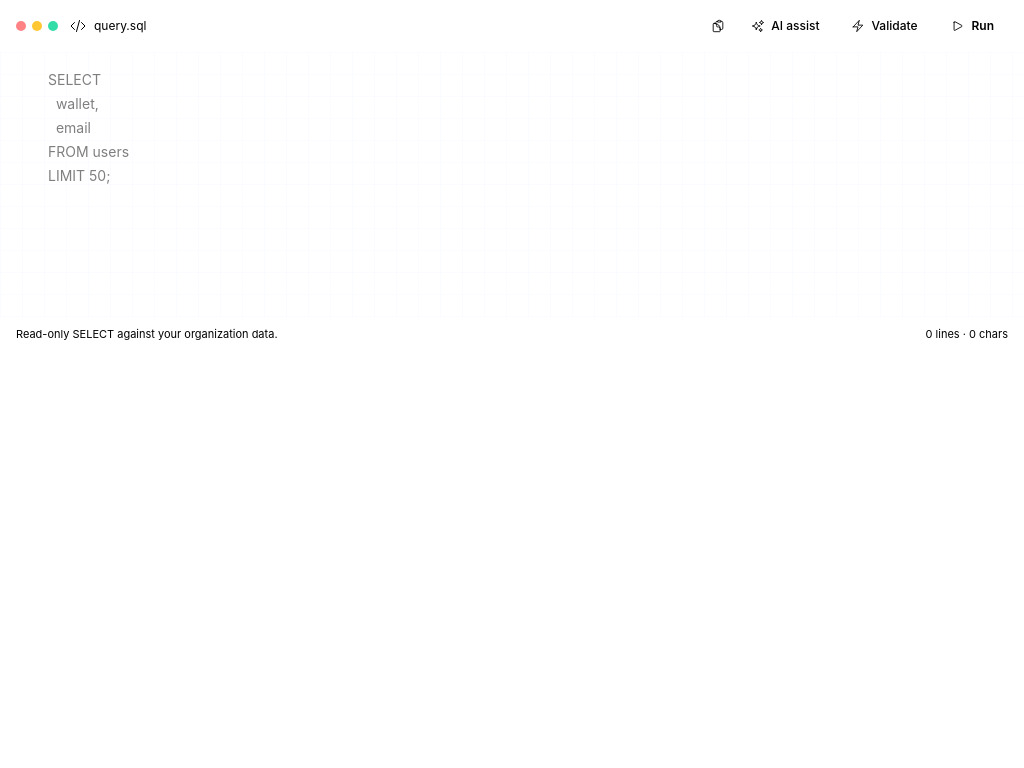
QueryTab › generates SQL from a prompt and applies it to the editor
The image size is (1024, 768).
Click the button with aria-label "AI SQL assistant" at (785, 26), box top-left (739, 12), bottom-right (832, 40)
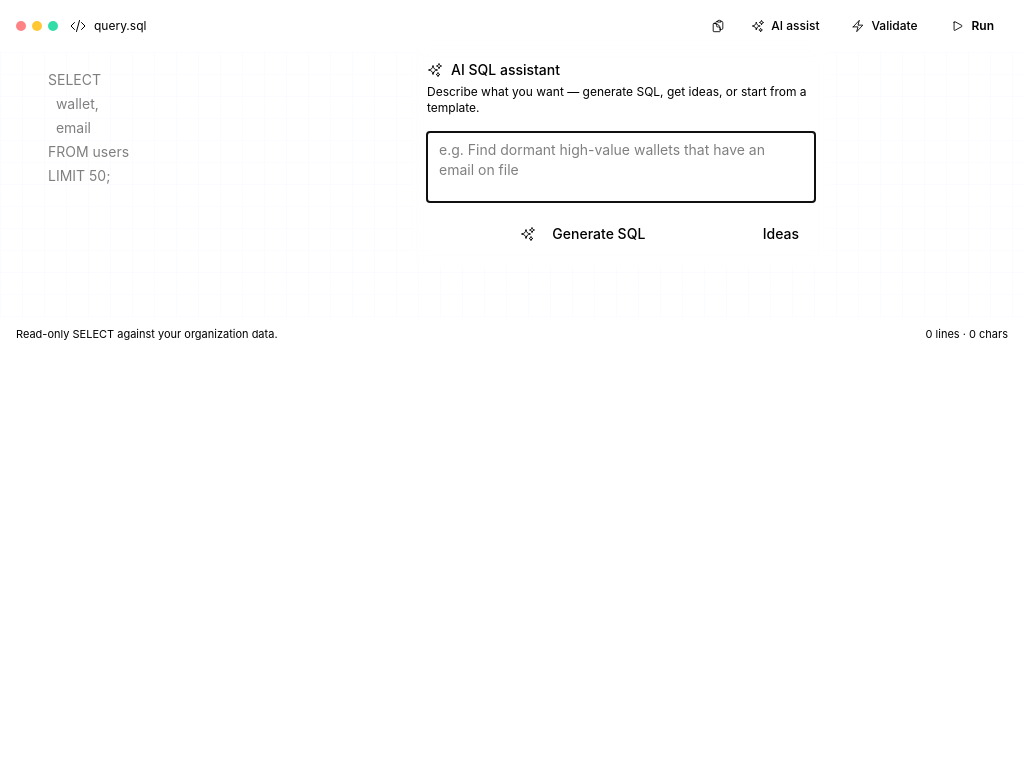
Replace the text in the text box with placeholder "Find dormant high-value wallets" with "Find high-value inactive users" at (621, 167), box top-left (427, 132), bottom-right (815, 202)
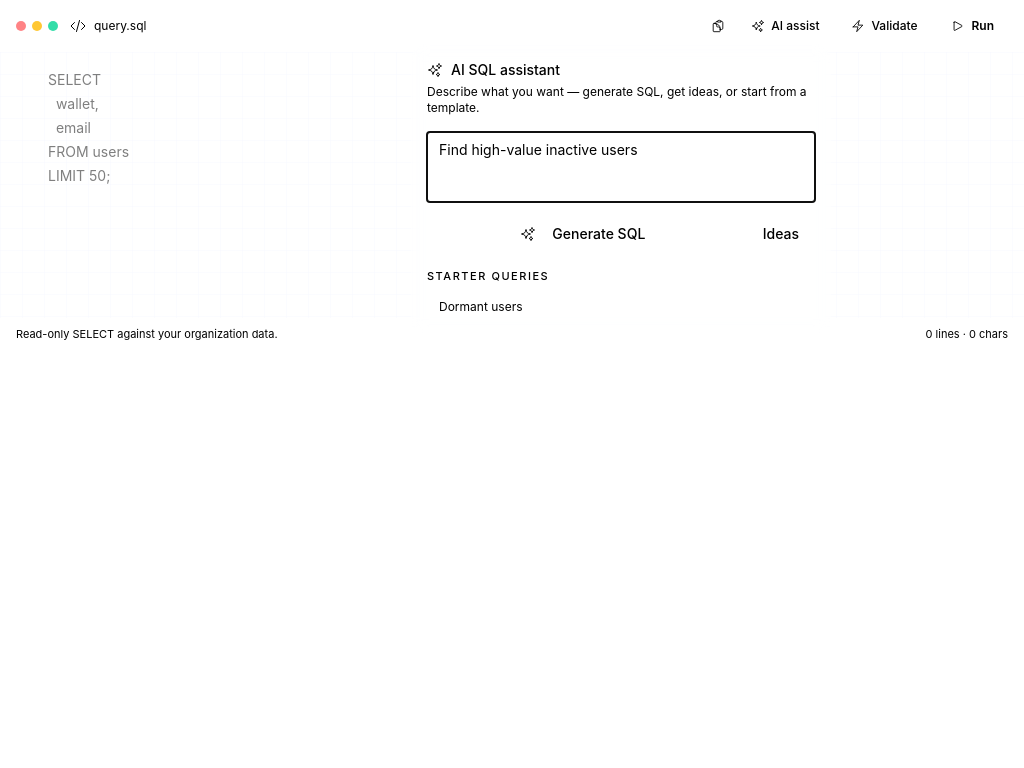
Click the button "Generate SQL" at (583, 234), box top-left (427, 216), bottom-right (739, 252)
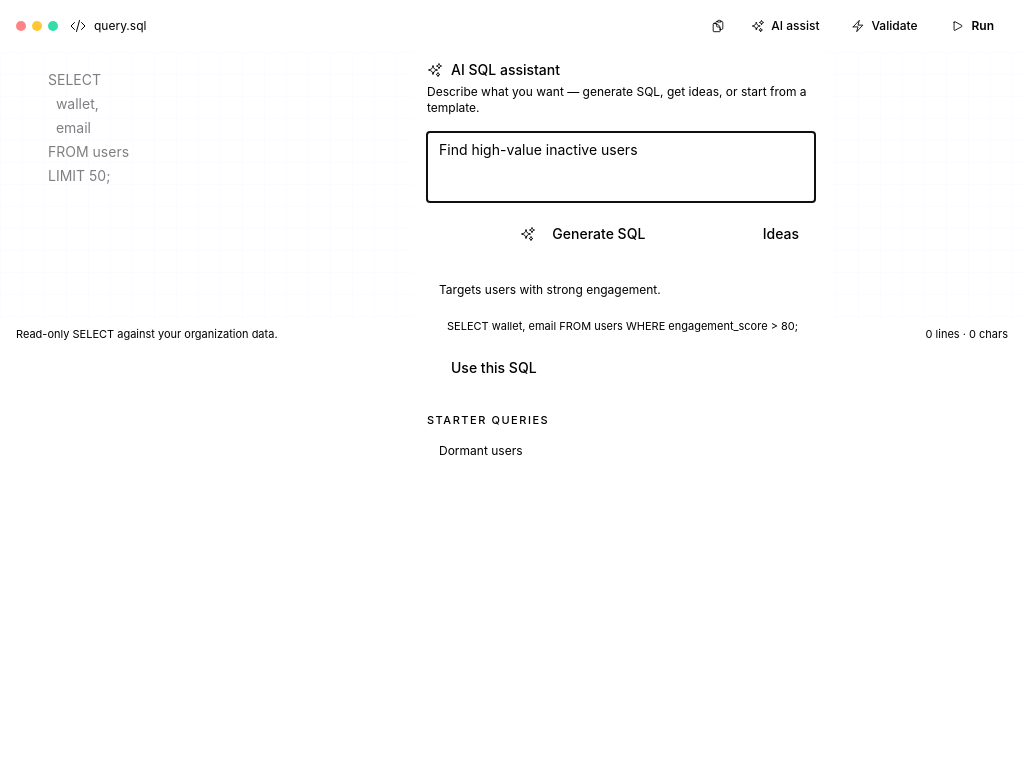
Expected: the button "Use this SQL" is shown
Click the button "Use this SQL" at (494, 368), box top-left (439, 352), bottom-right (549, 384)
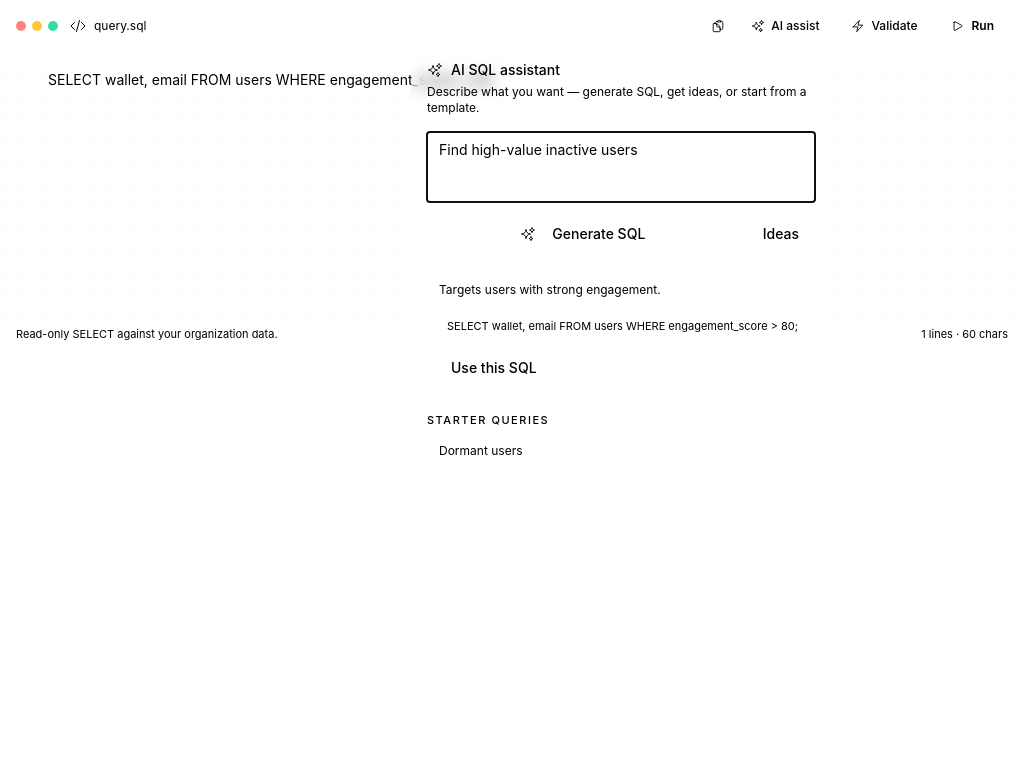
Expected: the text box named "SQL query editor" holds "SELECT wallet, email FROM users WHERE engagement_score > 80;", top-left (0, 52), bottom-right (1023, 312)
